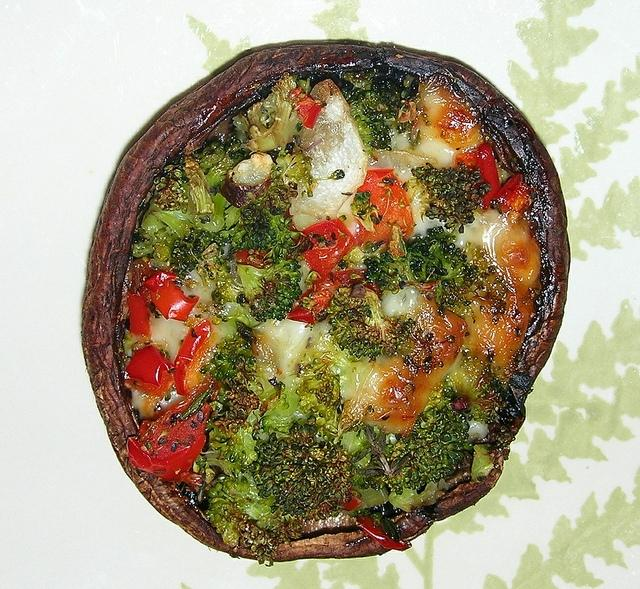broccoli: (192, 357, 354, 567), (340, 351, 510, 496), (340, 66, 420, 155), (328, 287, 413, 359), (201, 321, 277, 401), (407, 226, 480, 302), (412, 163, 491, 225), (236, 258, 302, 322), (240, 200, 298, 262), (270, 72, 302, 157), (196, 256, 245, 305), (170, 228, 212, 278), (364, 252, 419, 290)
hot pepper: (354, 168, 415, 246), (168, 320, 212, 396), (300, 218, 356, 276), (455, 142, 500, 210), (288, 278, 342, 324), (124, 345, 174, 386), (493, 172, 534, 220), (128, 290, 150, 337), (236, 247, 272, 269), (303, 106, 322, 130)
mushroom: (81, 44, 570, 562)
tomato: (126, 374, 220, 484), (300, 218, 356, 276), (455, 142, 501, 210), (172, 320, 212, 397), (124, 344, 176, 400), (288, 278, 342, 324), (150, 280, 199, 322), (492, 174, 534, 217), (127, 294, 154, 338), (302, 103, 322, 129)
